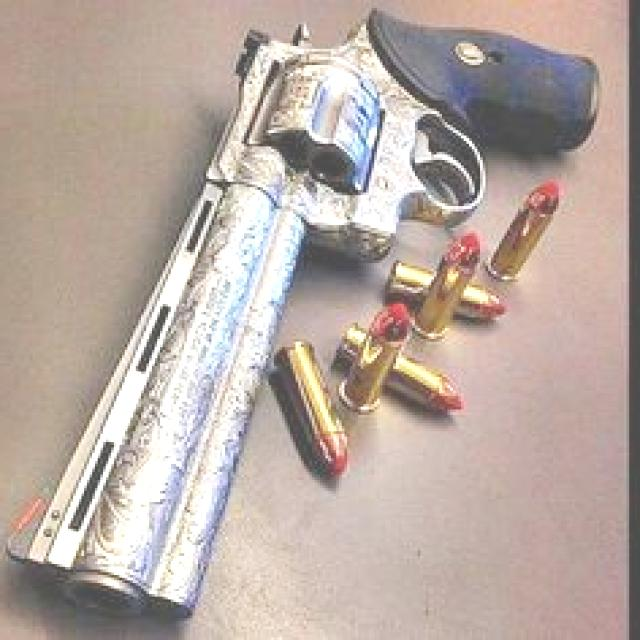revolver: (0, 4, 622, 640)
